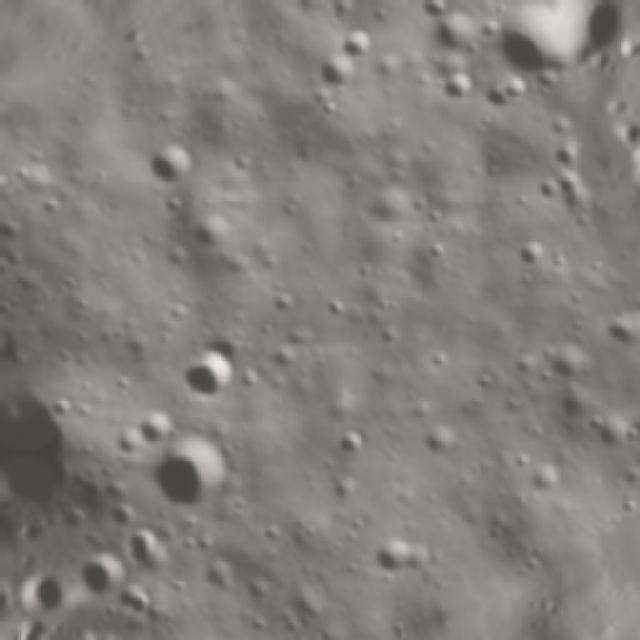crater: (130, 417, 252, 531), (474, 0, 578, 106), (353, 516, 452, 602), (166, 338, 252, 417), (127, 127, 210, 202), (466, 62, 539, 141), (113, 516, 189, 590), (526, 321, 599, 393), (420, 0, 495, 68), (303, 36, 371, 102), (178, 201, 248, 265), (68, 543, 130, 609), (92, 404, 154, 470), (505, 221, 563, 288), (126, 398, 186, 456), (333, 16, 392, 72), (408, 408, 468, 463), (595, 296, 640, 367), (330, 416, 379, 469), (518, 452, 572, 499), (615, 395, 640, 454), (408, 0, 454, 28), (632, 452, 640, 528)
